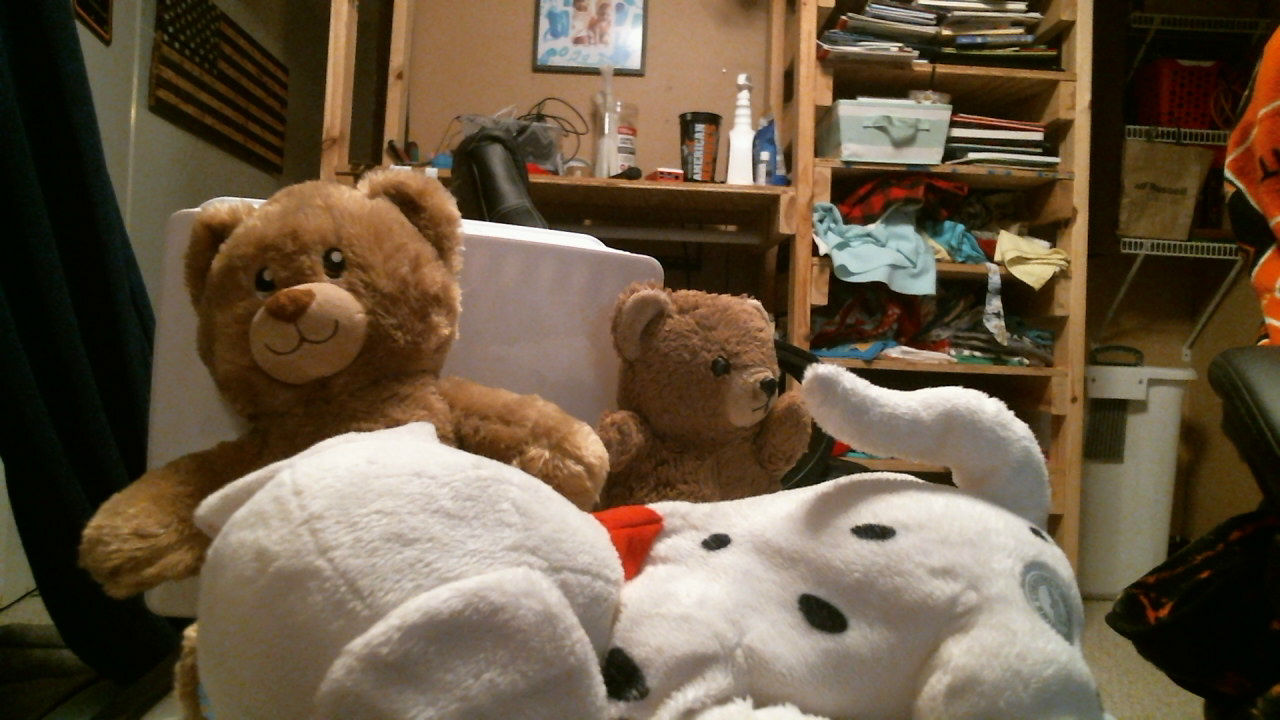Little_Mister_Bear: (703, 344, 785, 444)
